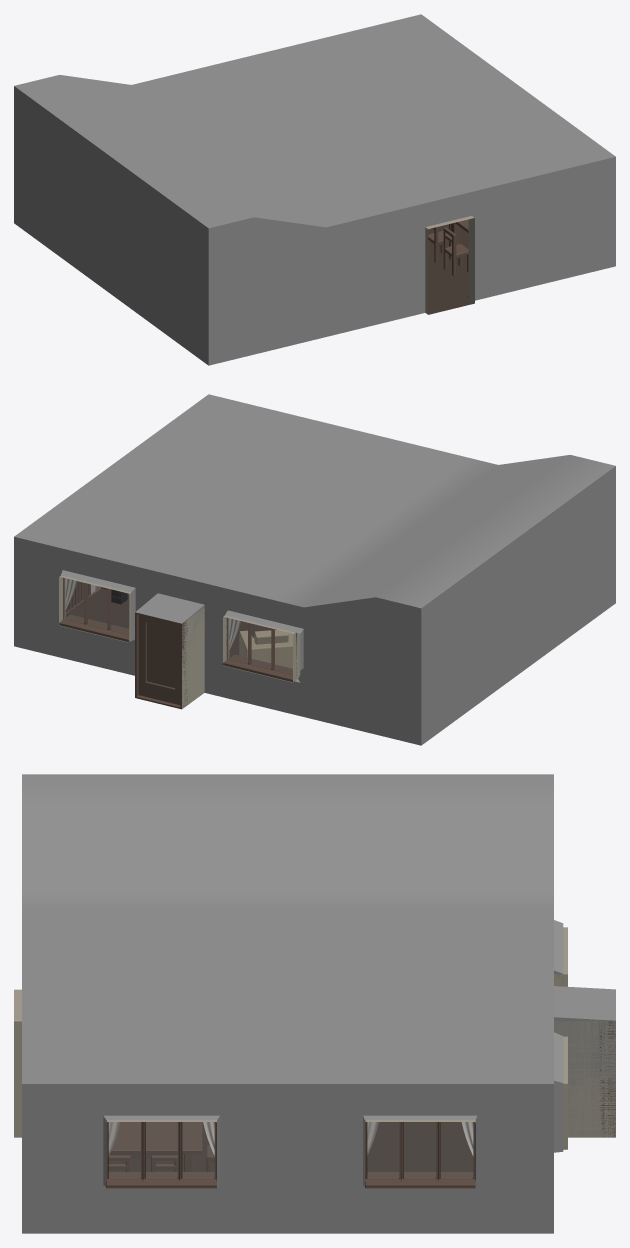
Rendered from room.FBX.
3 renders of one model, top to bottom at view 1: azimuth 30°, elevation 25°; view 2: azimuth 150°, elevation 25°; view 3: azimuth 270°, elevation 25°, orthographic. The views are drawn at different scales.
Parts seen in each view (by area): view 1: room_shadow, floor, room, stool001; view 2: room_shadow, Box001, room, floor, sofa002, window003, window002, door_frame, glass, glass004, glass005, glass001 (+2 smaller); view 3: room_shadow, room, floor, table, window, window1, glass009, glass006, glass007, glass008, glass010, glass011 (+1 smaller).
Boxes of the visible parts, box(x1,y1,x2,y2) form: room_shadow: box(14, 14, 615, 365); floor: box(428, 224, 474, 314); room: box(425, 216, 474, 314); stool001: box(443, 227, 468, 276); room_shadow: box(14, 394, 615, 745); Box001: box(138, 615, 180, 705); room: box(59, 575, 300, 708); floor: box(65, 589, 276, 657); sofa002: box(239, 630, 292, 668); window003: box(223, 617, 296, 682); window002: box(59, 577, 129, 642); door_frame: box(135, 612, 187, 709); glass: box(227, 618, 247, 663); glass004: box(87, 584, 107, 629); glass005: box(64, 578, 83, 623); glass001: box(251, 624, 270, 669); room_shadow: box(22, 774, 615, 1233); room: box(14, 927, 615, 1188); floor: box(108, 1122, 473, 1171); table: box(109, 1122, 202, 1171); window: box(106, 1122, 216, 1188); window1: box(365, 1122, 475, 1188); glass009: box(182, 1122, 214, 1178); glass006: box(441, 1122, 472, 1178); glass007: box(404, 1122, 435, 1178); glass008: box(367, 1122, 398, 1178); glass010: box(146, 1122, 177, 1178); glass011: box(109, 1122, 140, 1178).
Size of what is drawn, in the model's own units: 178 by 163 by 56.21.
